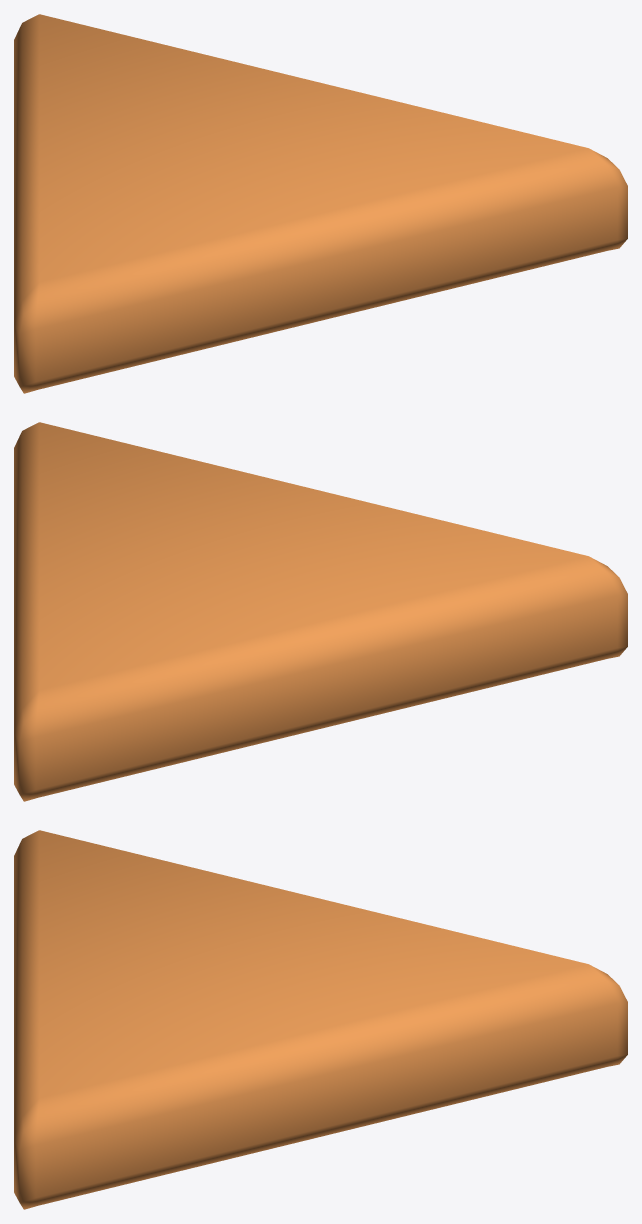
The model's file is SpicyChips.glb.
The picture shows the model from 3 angles, top to bottom: view 1: azimuth 30°, elevation 25°; view 2: azimuth 150°, elevation 25°; view 3: azimuth 270°, elevation 25°; orthographic projection.
Visible parts, largest first — view 1: SpicyChip; view 2: SpicyChip; view 3: SpicyChip.
Boxes of the visible parts, left/top/right/bottom form: SpicyChip: left=14, top=14, right=627, bottom=393; SpicyChip: left=14, top=422, right=627, bottom=801; SpicyChip: left=14, top=830, right=627, bottom=1209.
Bounding box in the file's own units: 0.1937 × 0.0306 × 0.1693.
